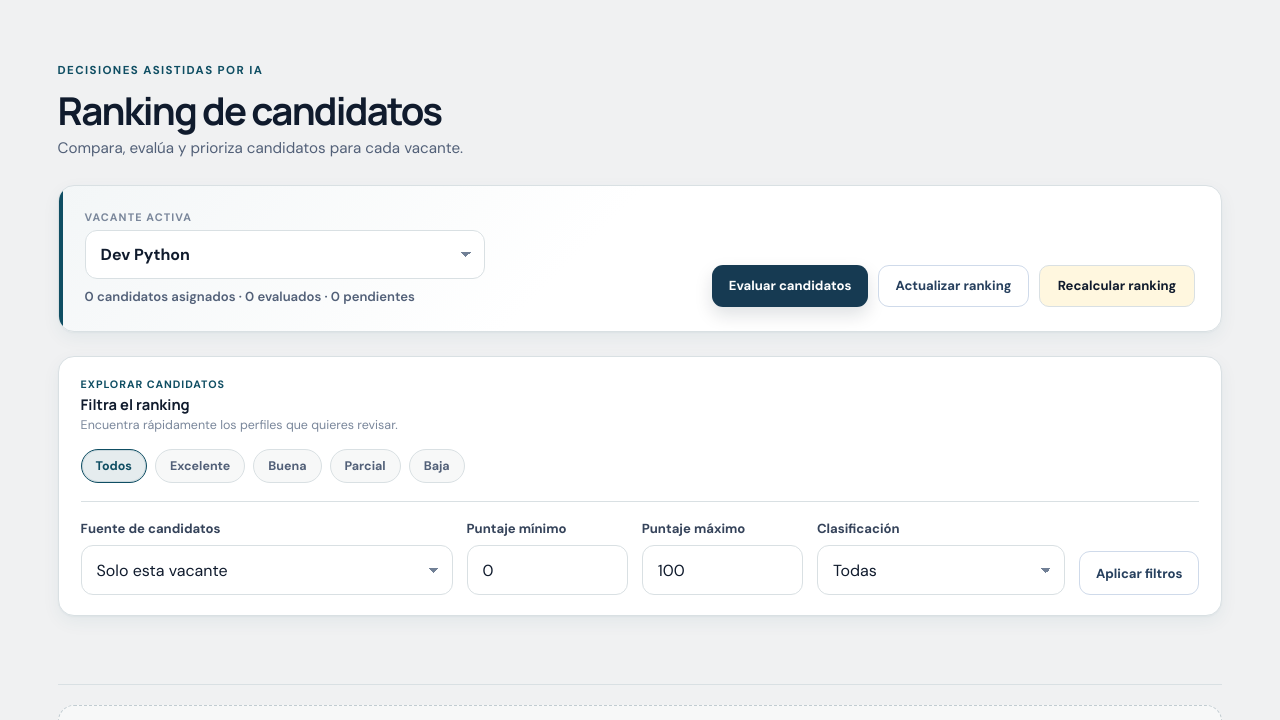
it: Ranking page › does NOT show 'Ranking actualizado' when refresh returns scope_mismatch
This screenshot has width=1280, height=720.
Expected: the button "Actualizar ranking" is enabled, [878, 265, 1029, 307]
Select "Todos mis candidatos" in the 2nd dropdown showing "Solo esta vacante" at (267, 570), box [81, 546, 453, 596]
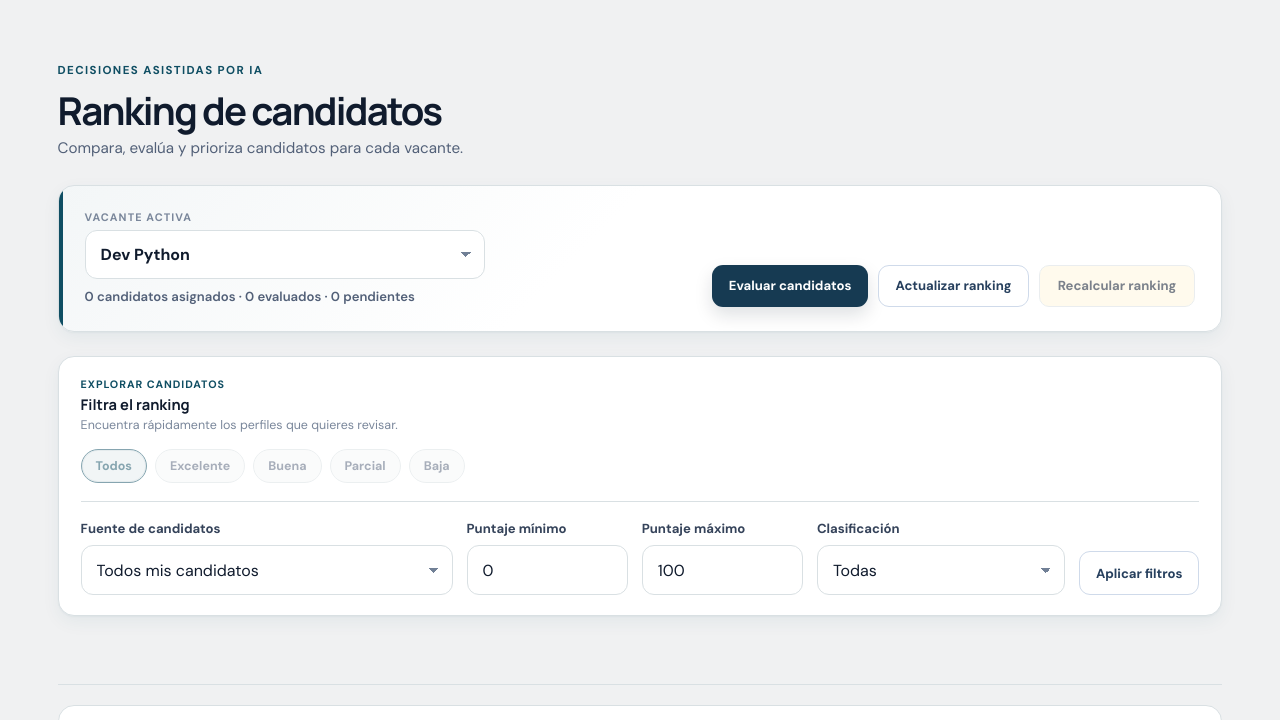
Click the button "Actualizar ranking" at (954, 286), box [878, 265, 1029, 307]
(page scrolled)
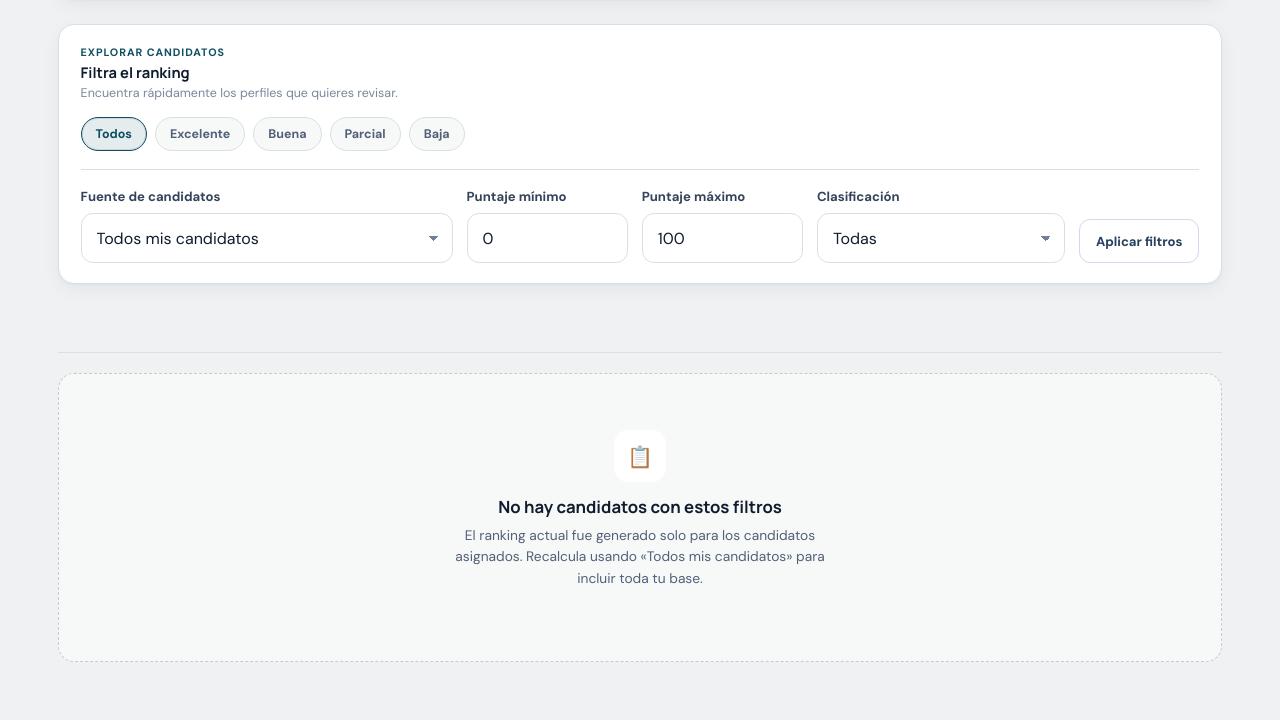
Expected: the text "El ranking actual fue generado solo para los candidatos asignados" is shown, [455, 526, 825, 587]
